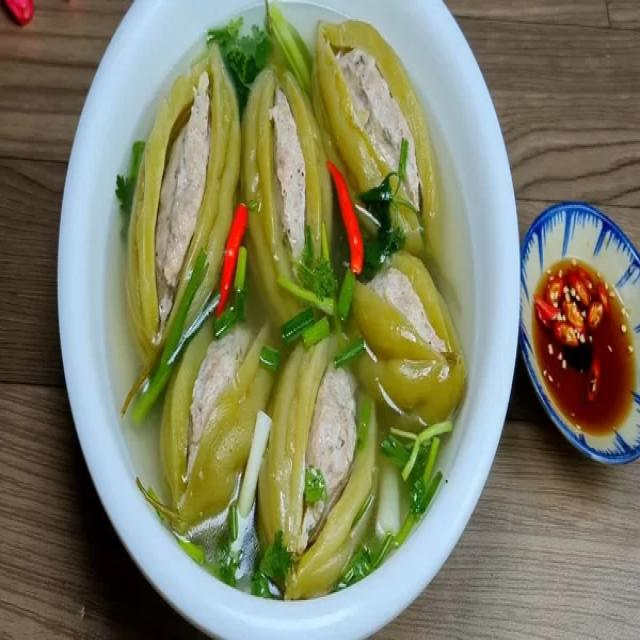kho qua: (128, 45, 240, 373), (258, 336, 373, 598), (313, 22, 439, 258), (241, 66, 337, 320), (161, 322, 273, 530), (352, 253, 465, 419)
